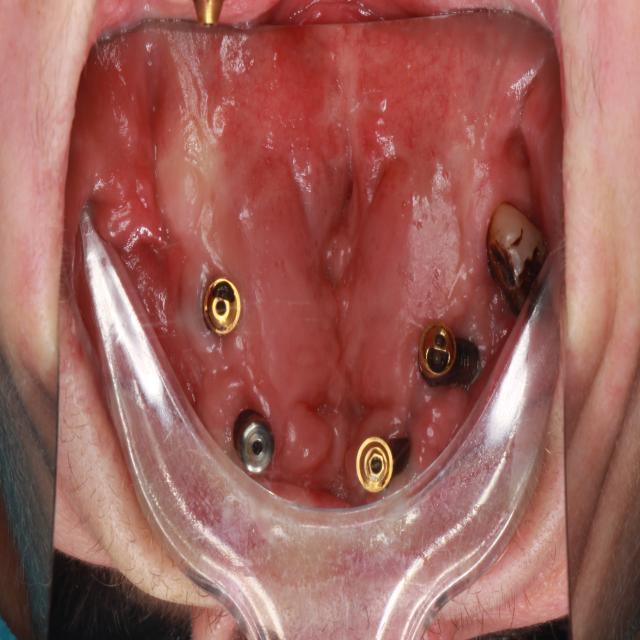tooth: (475, 184, 552, 323)
